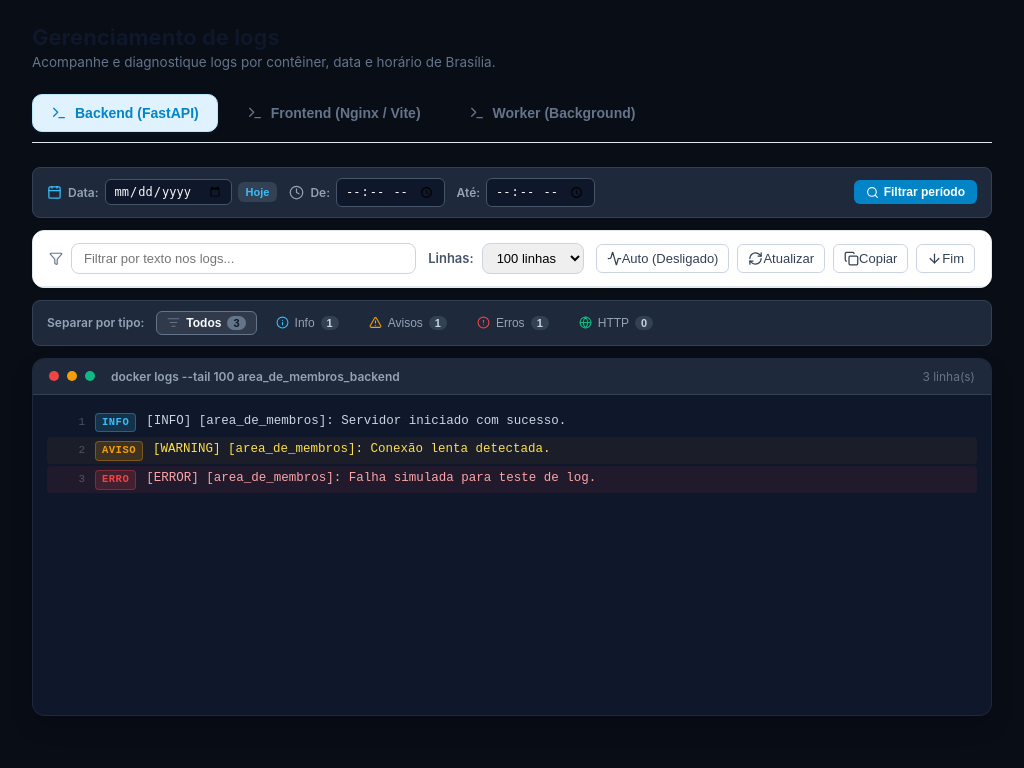
LogManagement Component › filters logs by date and time when clicking apply date filter button
The width and height of the screenshot is (1024, 768).
Expected: the text "[INFO] [area_de_membros]: Servidor iniciado com sucesso." is shown, [146,414,566,428]
In the date field with test id "log-date-input": (168, 192) [105,179,232,205], type "2026-09-29"
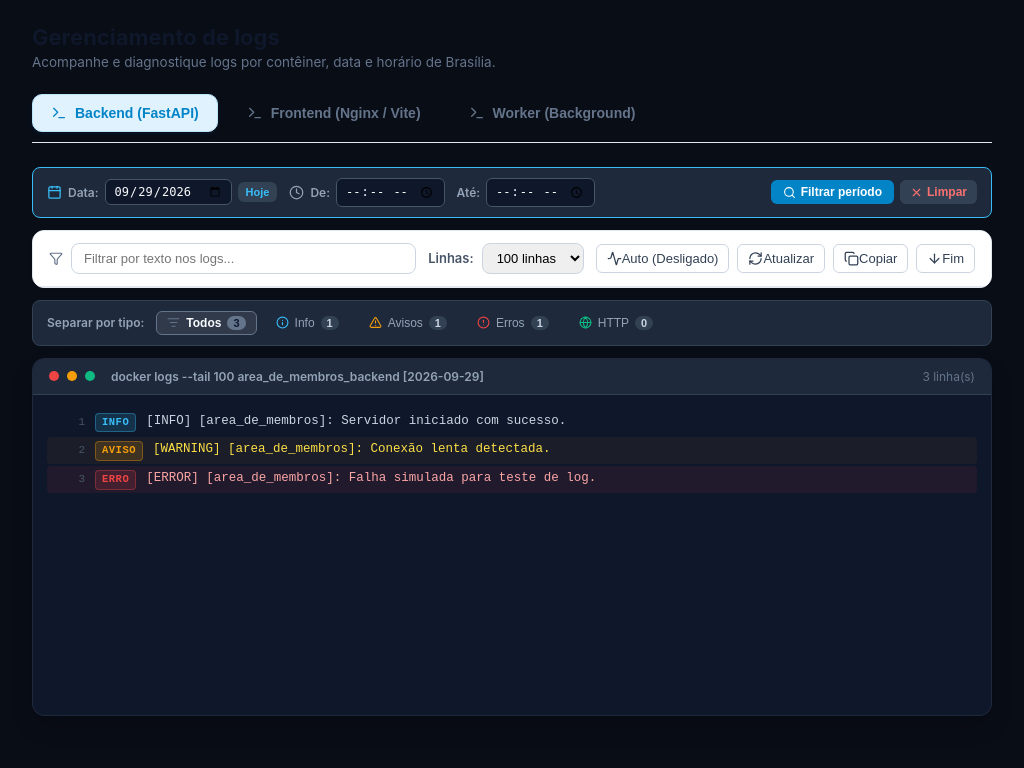
In the time field with test id "log-start-time-input": (390, 192) [336,178,445,207], type "14:00"
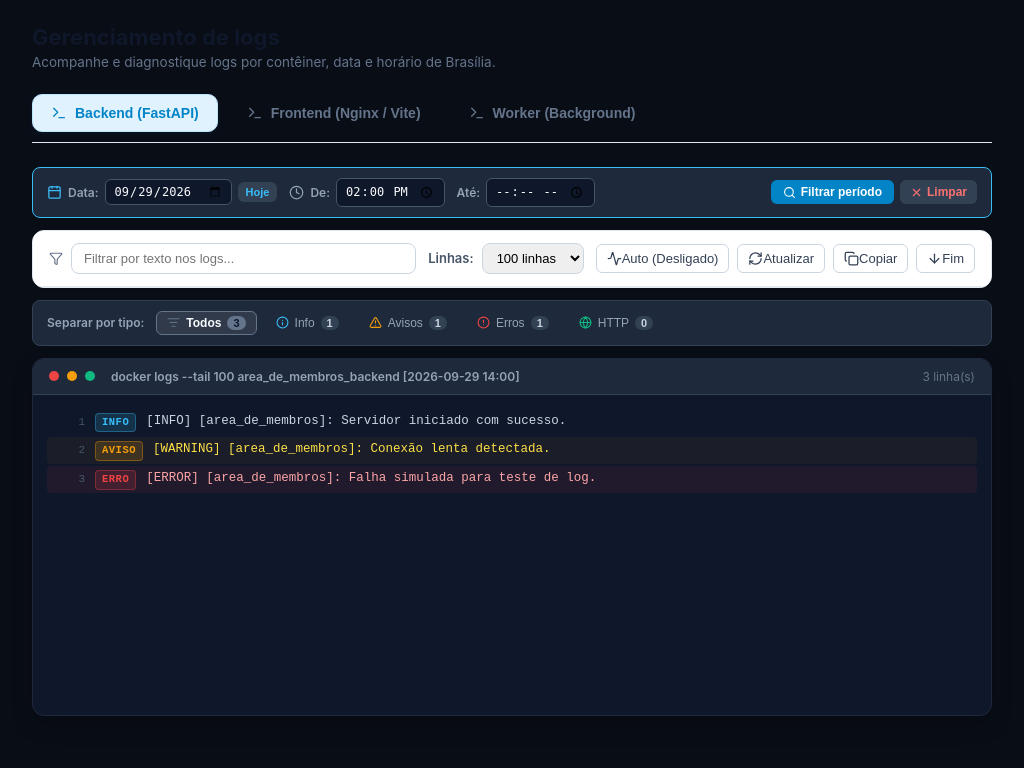
In the time field with test id "log-end-time-input": (540, 192) [486,178,595,207], type "16:00"
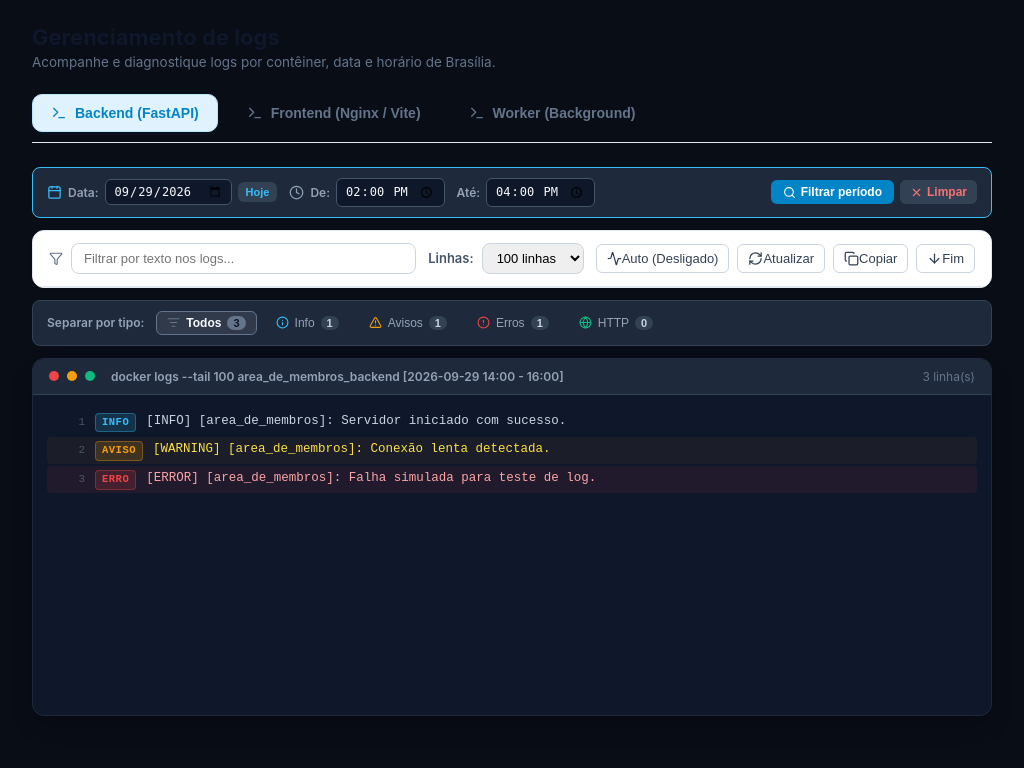
Click the button with test id "apply-date-filter-btn": click(832, 192) [771,180,894,204]
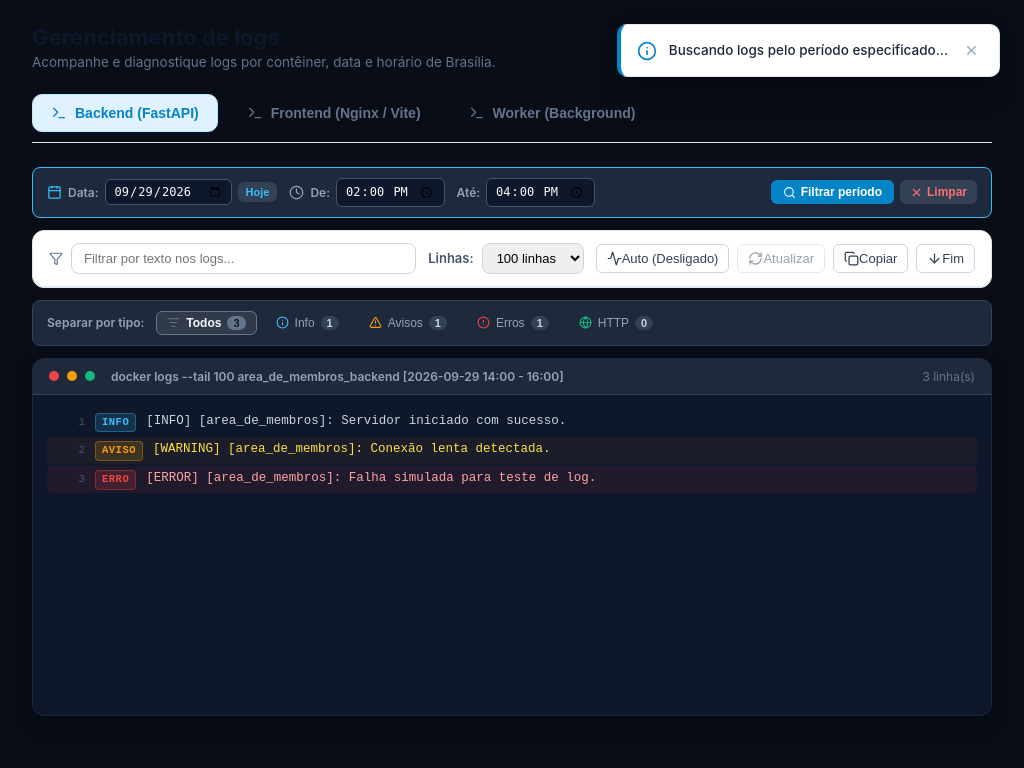
Note: Limpar filtros de data
Click the button with test id "clear-date-filter-btn": click(938, 192) [900,180,977,204]
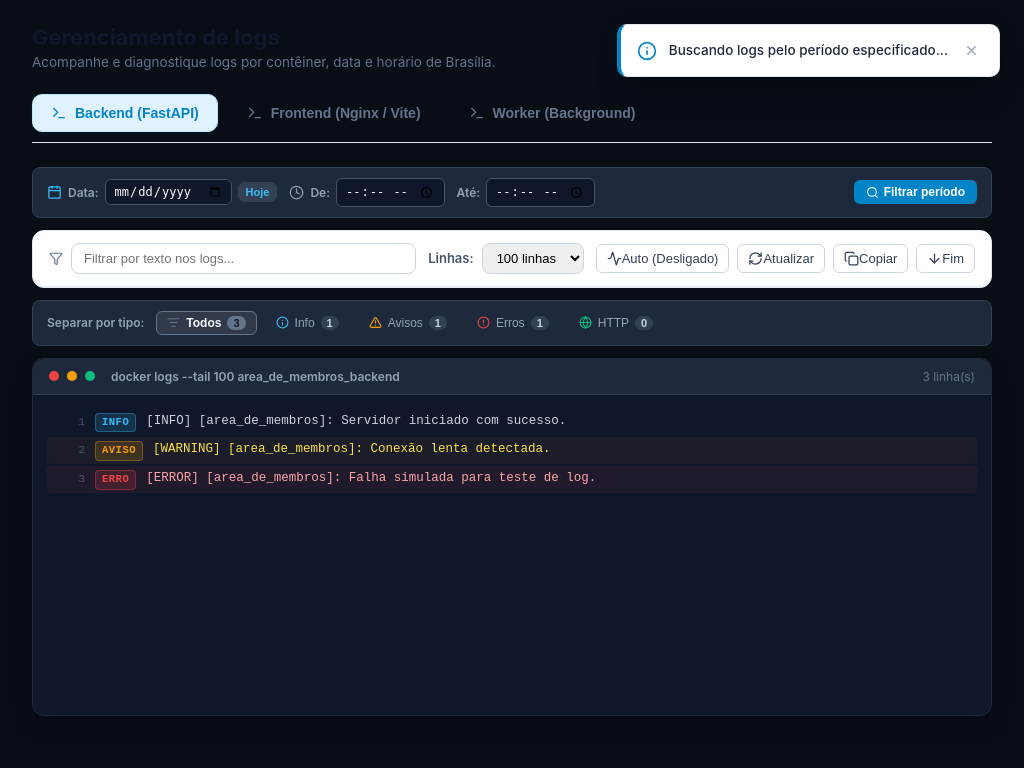
Expected: the date field with test id "log-date-input" is empty, [105,179,232,205]
Expected: the time field with test id "log-start-time-input" is empty, [336,178,445,207]
Expected: the time field with test id "log-end-time-input" is empty, [486,178,595,207]
